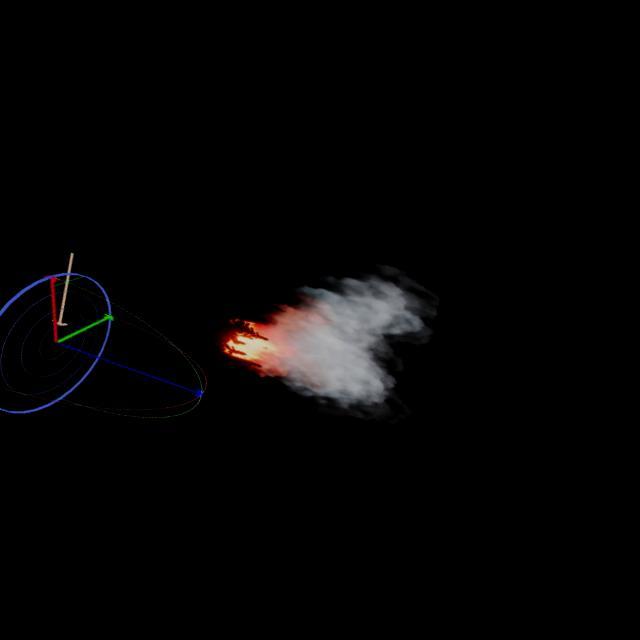fire: (207, 304, 287, 382)
smoke: (242, 225, 464, 450)
